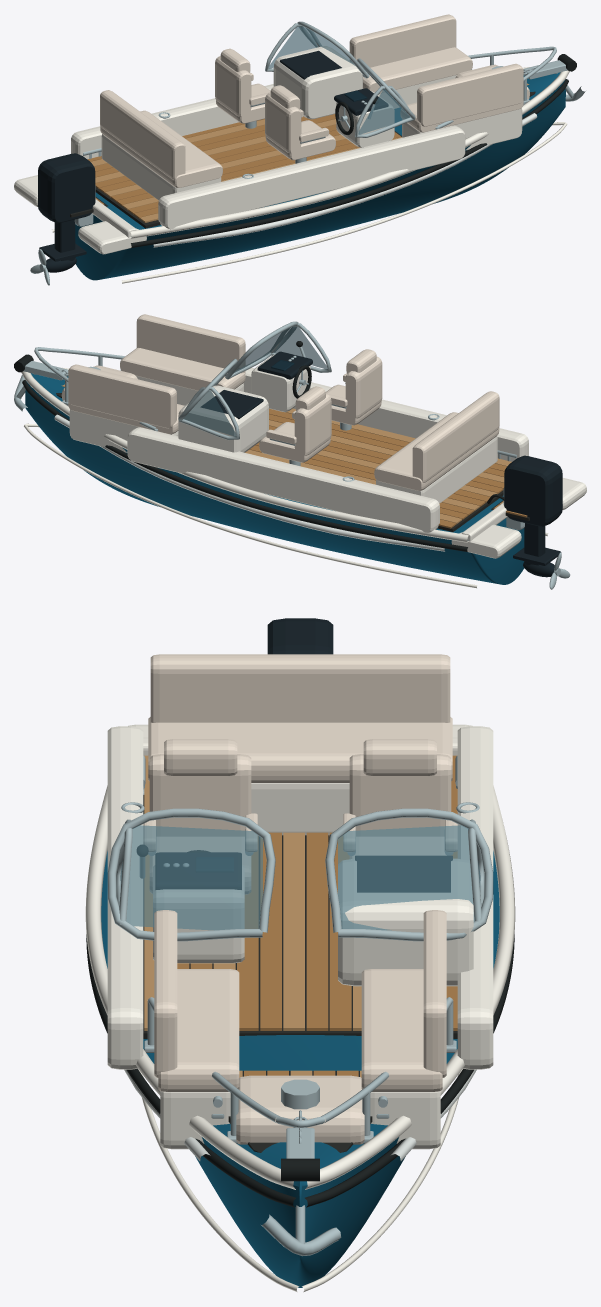
Rendered from speedboat.glb.
3 renders of one model, top to bottom at view 1: azimuth 30°, elevation 25°; view 2: azimuth 150°, elevation 25°; view 3: azimuth 270°, elevation 25°, orthographic. The views are drawn at different scales.
Parts seen in each view (by area): view 1: white, cushion, paint, dark, teak, steel, rubber, teakLight, glass, roof, teakDark; view 2: white, cushion, paint, dark, steel, teak, rubber, teakLight, glass, roof, teakDark; view 3: cushion, white, glass, steel, paint, teak, dark, teakLight, rubber, teakDark, roof.
Part boxes in pixels (<box>): white: <box>14,46,569,283</box>; cushion: <box>100,14,529,187</box>; paint: <box>75,72,565,280</box>; dark: <box>38,50,388,272</box>; teak: <box>87,114,401,218</box>; steel: <box>30,21,585,285</box>; rubber: <box>131,54,576,247</box>; teakLight: <box>90,83,529,222</box>; glass: <box>269,26,409,134</box>; roof: <box>153,113,537,247</box>; teakDark: <box>70,91,535,228</box>; white: <box>21,354,586,588</box>; cushion: <box>61,314,499,490</box>; paint: <box>25,373,524,584</box>; dark: <box>201,351,562,577</box>; steel: <box>14,321,570,589</box>; teak: <box>249,408,527,528</box>; rubber: <box>14,341,504,551</box>; teakLight: <box>61,384,511,524</box>; glass: <box>184,326,327,436</box>; roof: <box>54,414,444,551</box>; teakDark: <box>56,393,529,531</box>; cushion: <box>143,654,457,1144</box>; white: <box>85,724,515,1292</box>; glass: <box>120,825,480,932</box>; steel: <box>107,756,493,1256</box>; paint: <box>101,851,499,1287</box>; teak: <box>177,755,457,1076</box>; dark: <box>155,618,452,892</box>; teakLight: <box>144,755,361,1077</box>; rubber: <box>86,844,514,1207</box>; teakDark: <box>143,795,457,1152</box>; roof: <box>124,1069,476,1160</box>.
Size of the model in its own units: 6.98 by 2.17 by 2.41.
